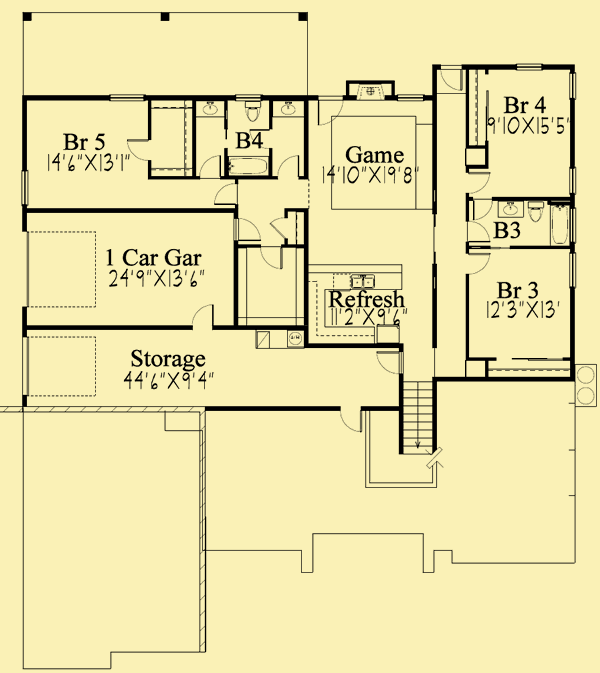bathroom has a tub, small and large sink: (466, 194, 579, 256)
bathroom has dual sinks, large sink abd bathtub: (191, 92, 310, 180)
kitchen has a twin sink: (304, 260, 407, 349)
